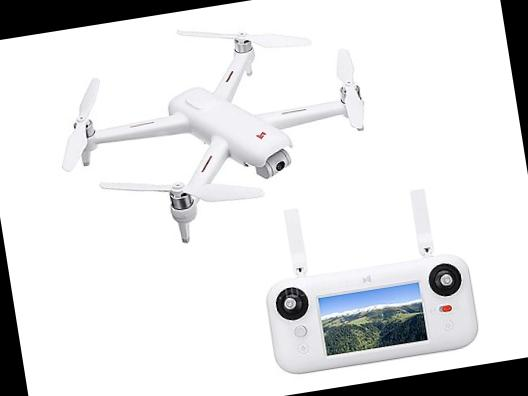drone: (30, 3, 409, 266)
